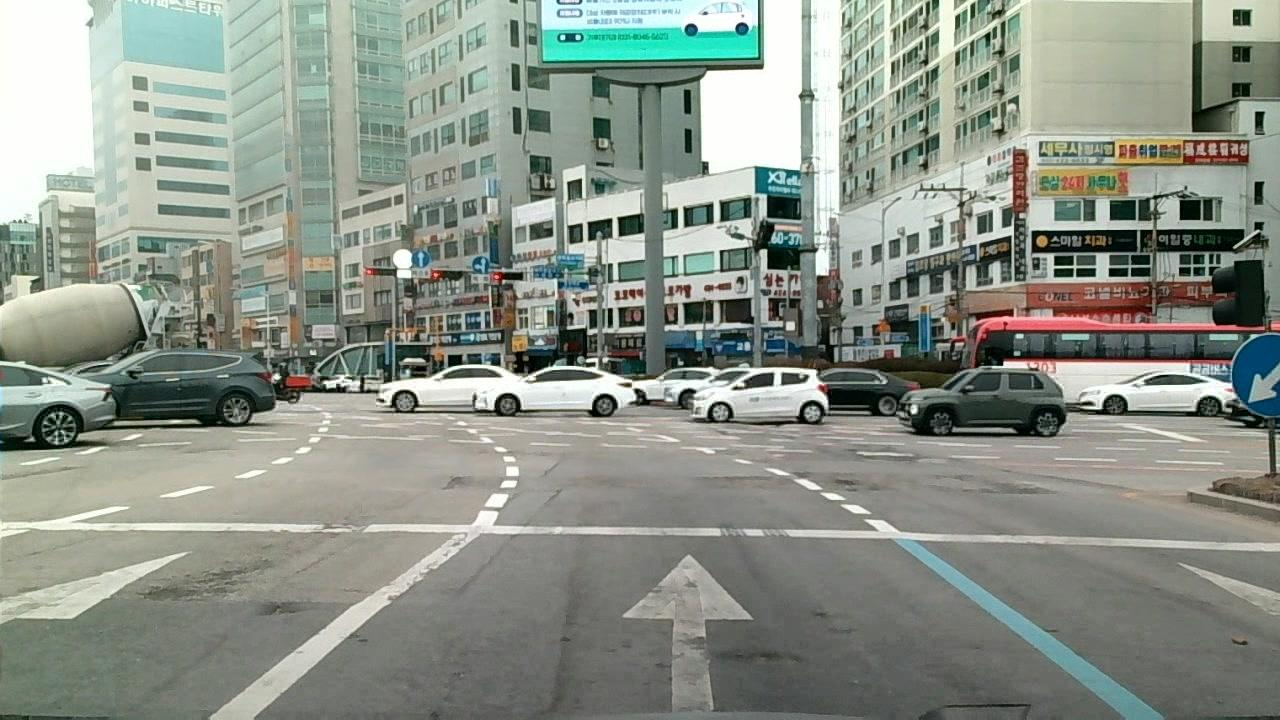banner: (207, 547, 271, 594), (724, 640, 803, 677), (139, 580, 205, 612), (258, 592, 309, 622)
